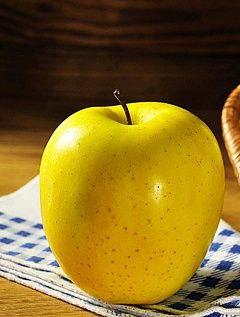Apple: (39, 102, 225, 306)
